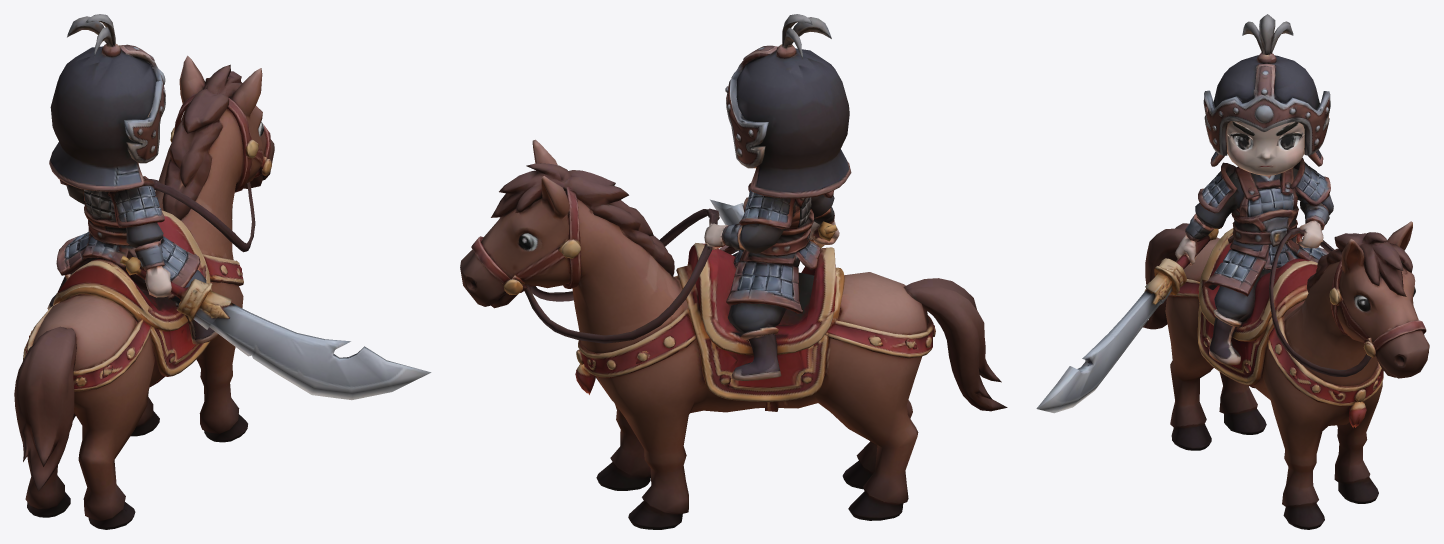
The picture shows the model from 3 angles, left to right: view 1: azimuth 30°, elevation 25°; view 2: azimuth 150°, elevation 25°; view 3: azimuth 270°, elevation 25°; orthographic projection. The views are drawn at different scales.
Visible parts, largest first — view 1: tripo_node_bb6100d7-4977-4126-87c0-1176937ca279; view 2: tripo_node_bb6100d7-4977-4126-87c0-1176937ca279; view 3: tripo_node_bb6100d7-4977-4126-87c0-1176937ca279.
Part boxes in pixels (<box>): tripo_node_bb6100d7-4977-4126-87c0-1176937ca279: <box>14,14,431,529</box>; tripo_node_bb6100d7-4977-4126-87c0-1176937ca279: <box>460,14,1007,529</box>; tripo_node_bb6100d7-4977-4126-87c0-1176937ca279: <box>1036,14,1429,529</box>.
Bounding box in the file's own units: 0.4211 × 0.5 × 0.4066.
Materials: 1 (1 with a texture image).
